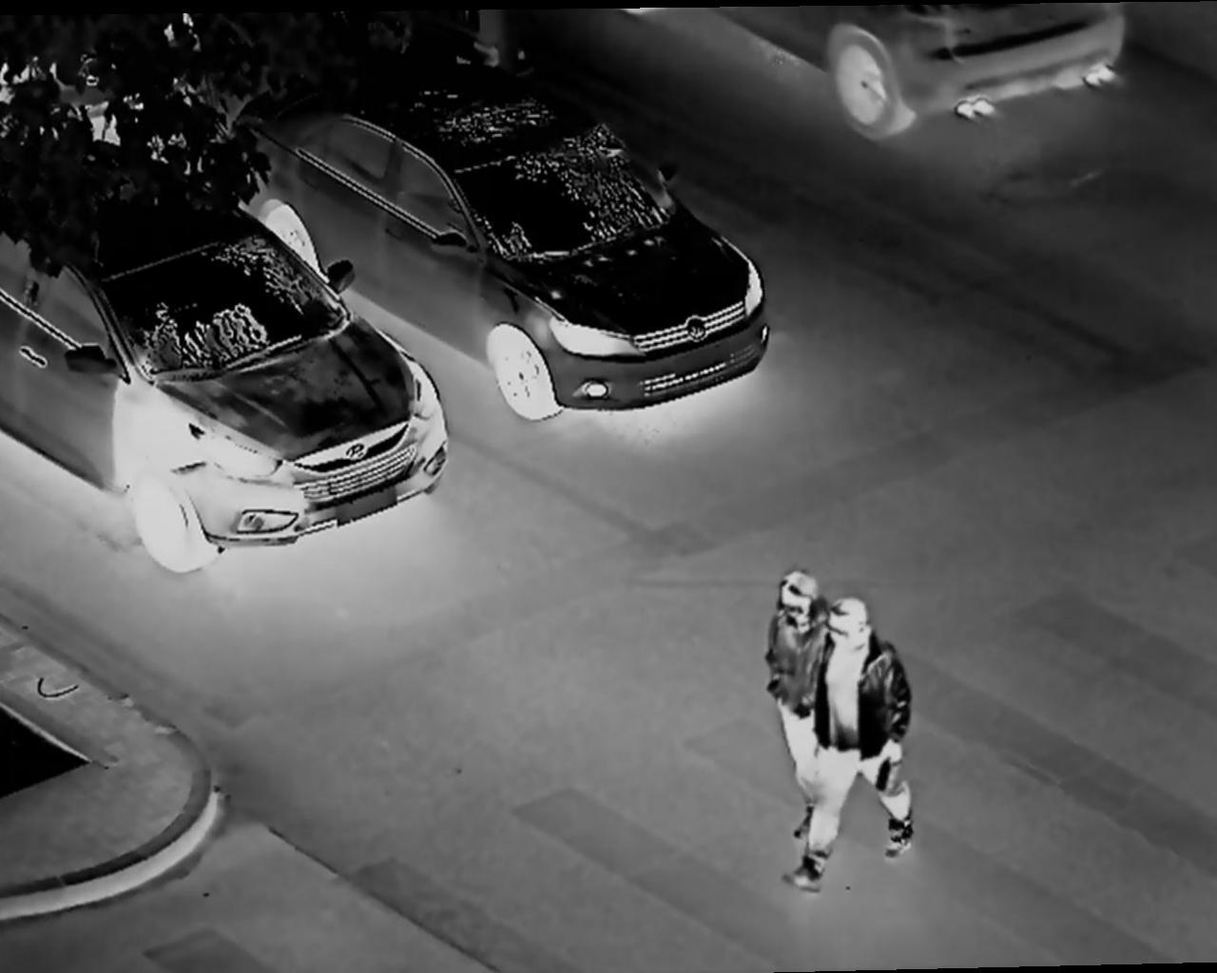person: (812, 599, 921, 889), (763, 567, 823, 807)
